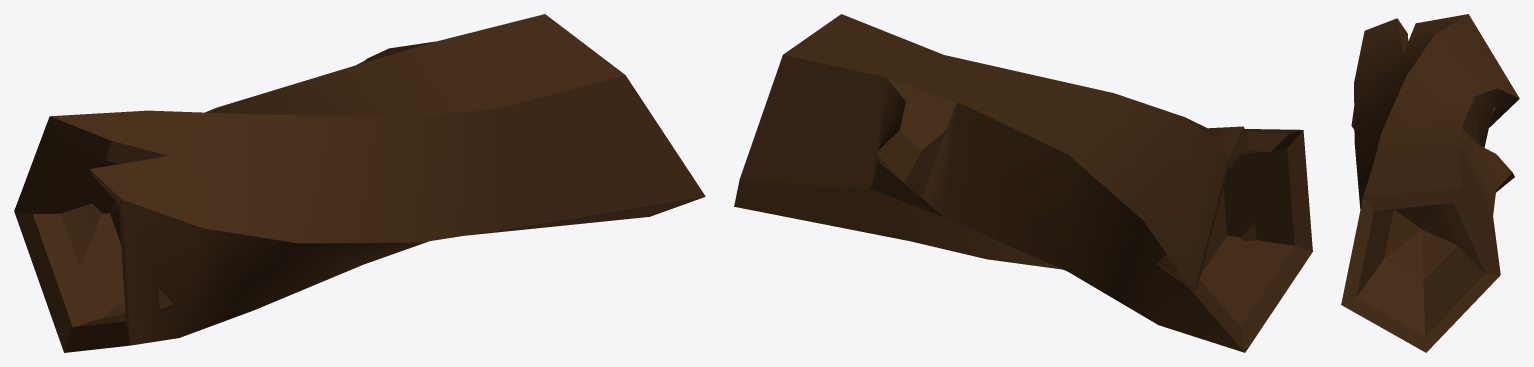
File: log.fbx
The picture shows the model from 3 angles, left to right: view 1: azimuth 30°, elevation 25°; view 2: azimuth 150°, elevation 25°; view 3: azimuth 270°, elevation 25°; orthographic projection. The views are drawn at different scales.
Parts seen in each view (by area): view 1: log; view 2: log; view 3: log.
Part boxes in pixels (x1,y1,x2,y2): log: (14,14,705,352); log: (734,14,1312,352); log: (1341,14,1519,352).
Size of the model in its own units: 5.45 by 2.07 by 2.12.
